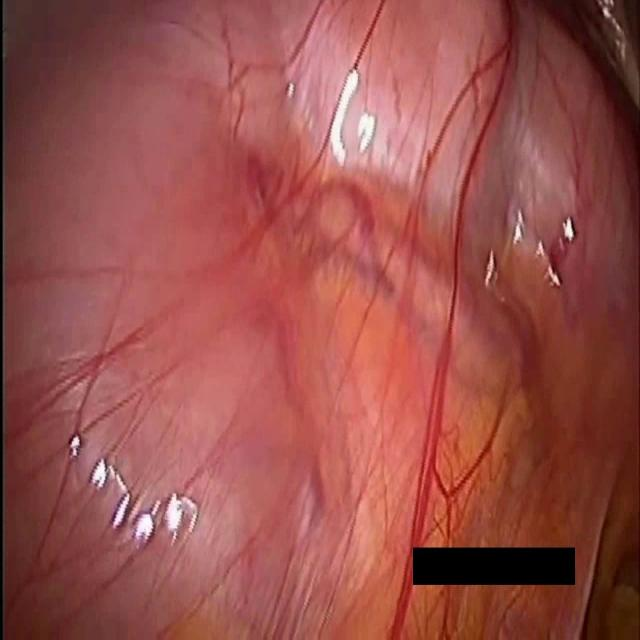surgical-area: (406, 531, 640, 639)
